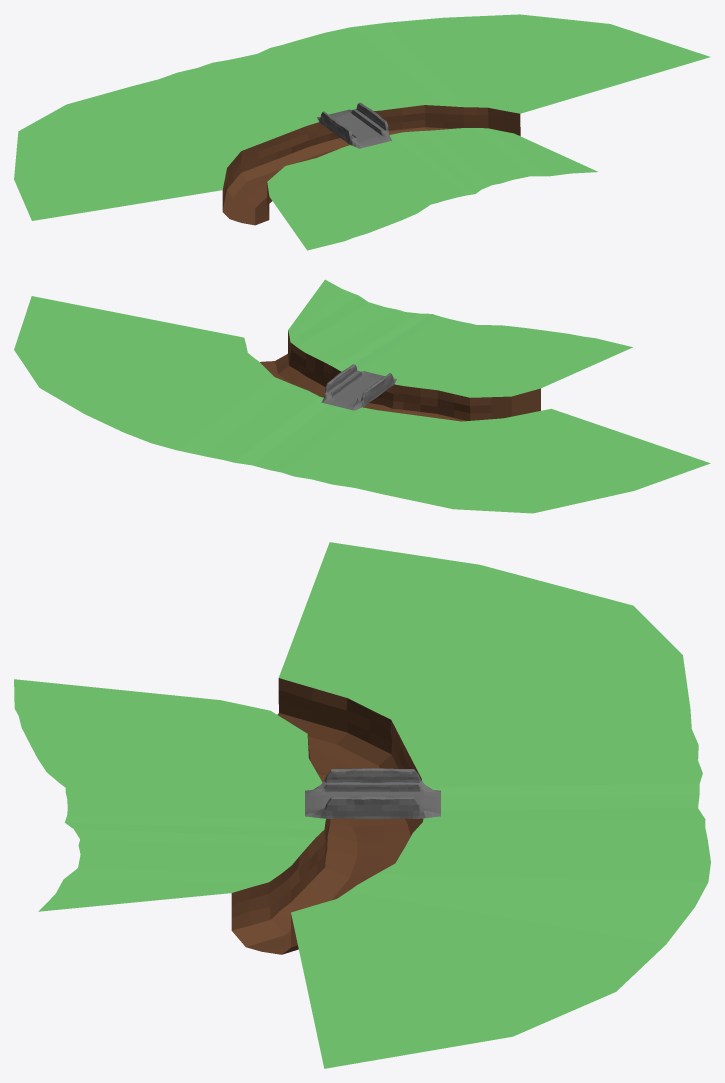
File: bridge.glb
3 renders of one model, top to bottom at view 1: azimuth 30°, elevation 25°; view 2: azimuth 150°, elevation 25°; view 3: azimuth 270°, elevation 25°, orthographic. The views are drawn at different scales.
Visible parts, largest first — view 1: Floor, Bridge; view 2: Floor, Bridge; view 3: Floor, Bridge.
Part boxes in pixels (box(x1,y1,x2,y2)): Floor: box(14, 14, 710, 250); Bridge: box(317, 102, 391, 148); Floor: box(14, 279, 710, 513); Bridge: box(321, 364, 396, 410); Floor: box(14, 542, 710, 1068); Bridge: box(305, 768, 440, 818).
Size of what is drawn, in the model's own units: 491 by 29.69 by 275.
